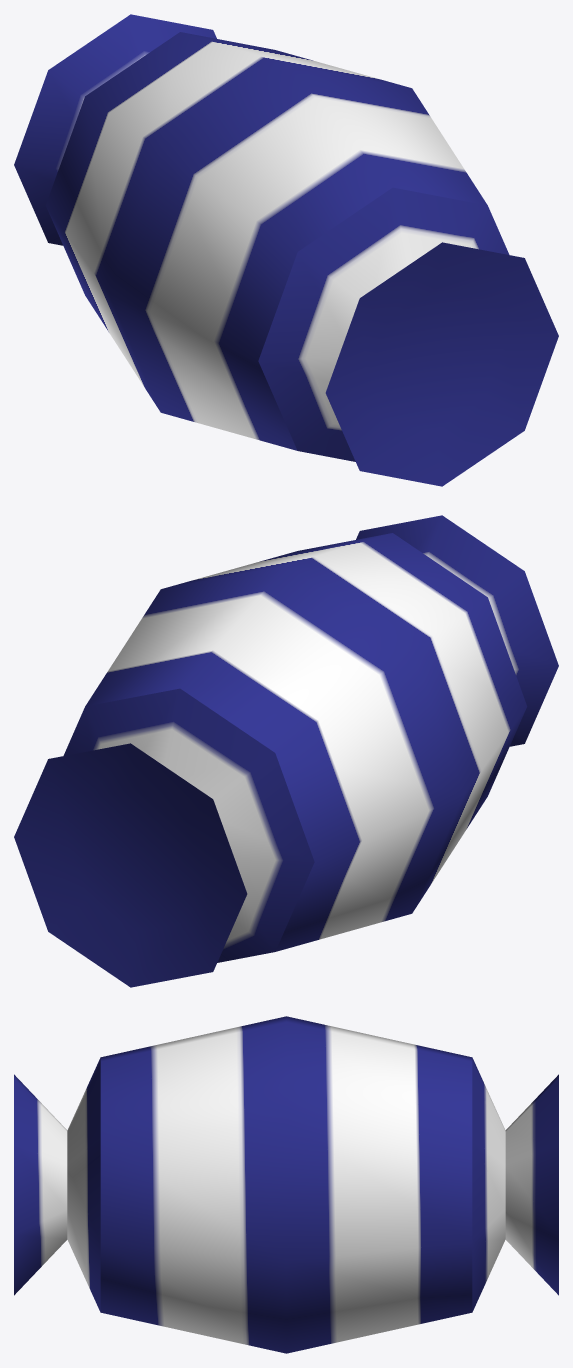
Rendered from MM_GiantCandy.fbx.
3 views of the same model, one above another, from view 1: azimuth 30°, elevation 25°; view 2: azimuth 150°, elevation 25°; view 3: azimuth 270°, elevation 25° (orthographic). The views are drawn at different scales.
Parts seen in each view (by area): view 1: MM_GiantCandy; view 2: MM_GiantCandy; view 3: MM_GiantCandy.
Boxes of the visible parts, x1=… form: MM_GiantCandy: x1=14, y1=14, x2=558, y2=486; MM_GiantCandy: x1=14, y1=515, x2=558, y2=987; MM_GiantCandy: x1=14, y1=1016, x2=558, y2=1353.
Size of the model in its own units: 93.32 by 93.32 by 142.
